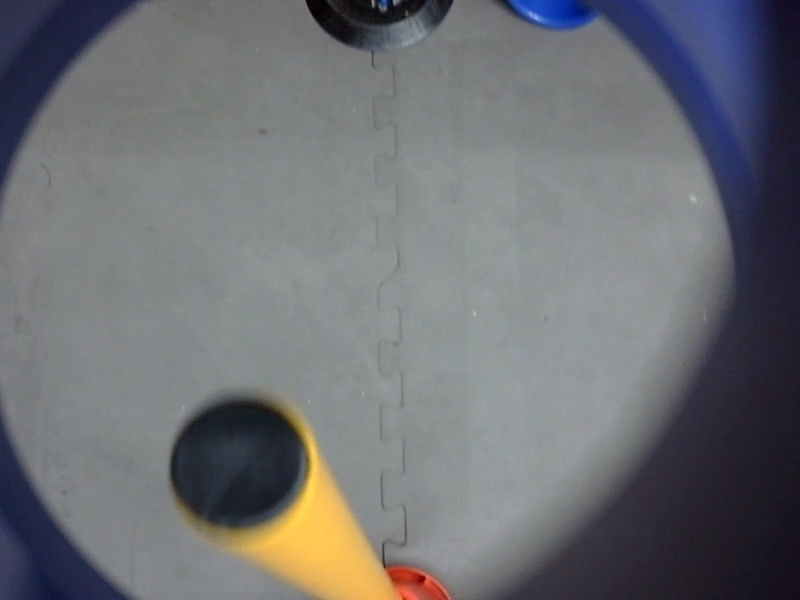tip: (157, 384, 321, 547)
